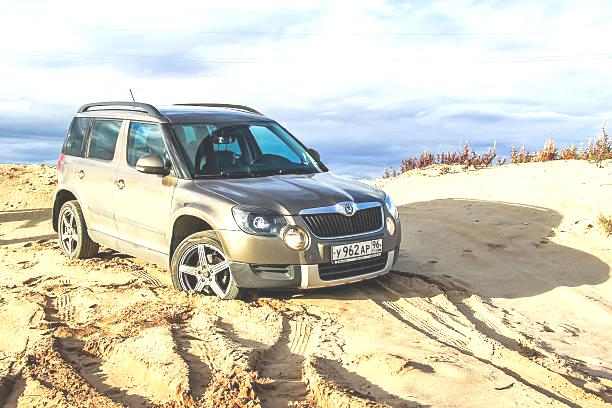skoda: (340, 199, 357, 217)
